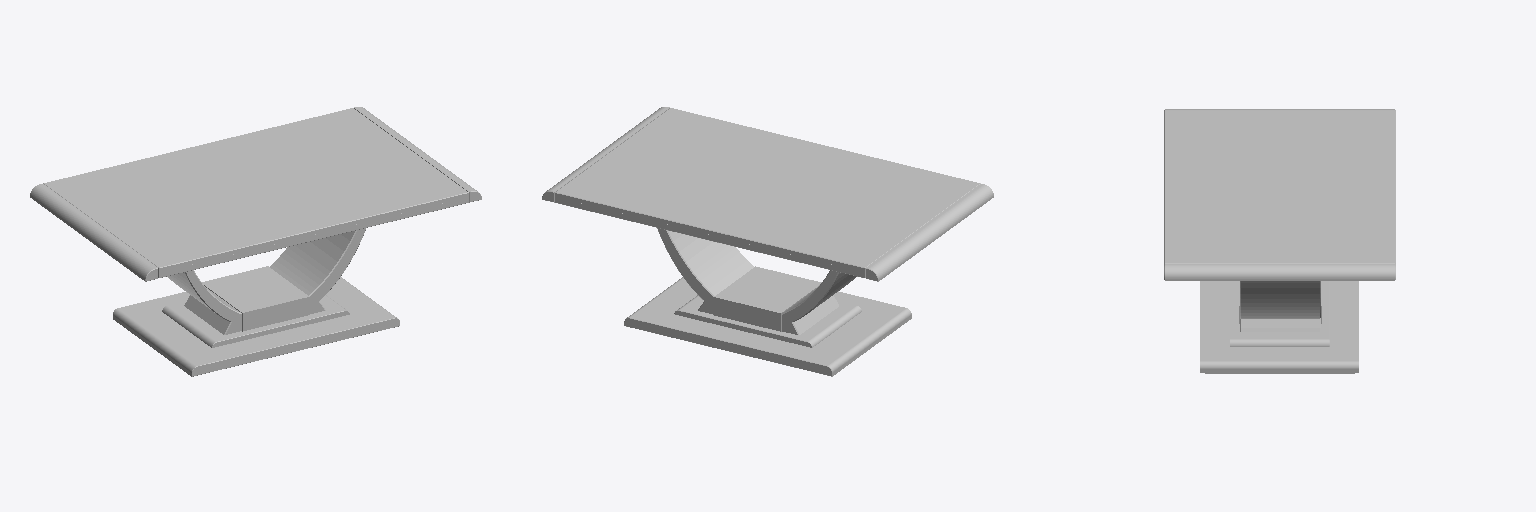
The model's file is lounge_table.obj.
The picture shows the model from 3 angles: view 1: azimuth 30°, elevation 25°; view 2: azimuth 150°, elevation 25°; view 3: azimuth 270°, elevation 25°; orthographic projection.
Visible parts, largest first — view 1: Box13, Rectangle12, Line02, Box12, Rectangle14, Rectangle11, Rectangle13; view 2: Box13, Rectangle12, Line02, Box12, Rectangle14, Rectangle11, Rectangle13; view 3: Box13, Rectangle12, Line02, Rectangle13, Rectangle11, Rectangle14.
Part boxes in pixels (x1,y1,x2,y2): Box13: (43,108,468,277); Rectangle12: (113,277,399,376); Line02: (167,228,365,334); Box12: (202,266,309,331); Rectangle14: (30,184,157,281); Rectangle11: (162,295,349,347); Rectangle13: (354,107,481,202); Box13: (555,108,980,277); Rectangle12: (624,277,911,376); Line02: (657,228,856,334); Box12: (713,266,821,331); Rectangle14: (866,184,993,281); Rectangle11: (674,295,861,347); Rectangle13: (542,107,669,202); Box13: (1164,112,1395,263); Rectangle12: (1200,281,1358,372); Line02: (1240,281,1320,331); Rectangle13: (1164,264,1395,280); Rectangle11: (1230,281,1329,346); Rectangle14: (1164,109,1395,111).
Size of the model in its own units: 77.17 by 29.9 by 46.02.